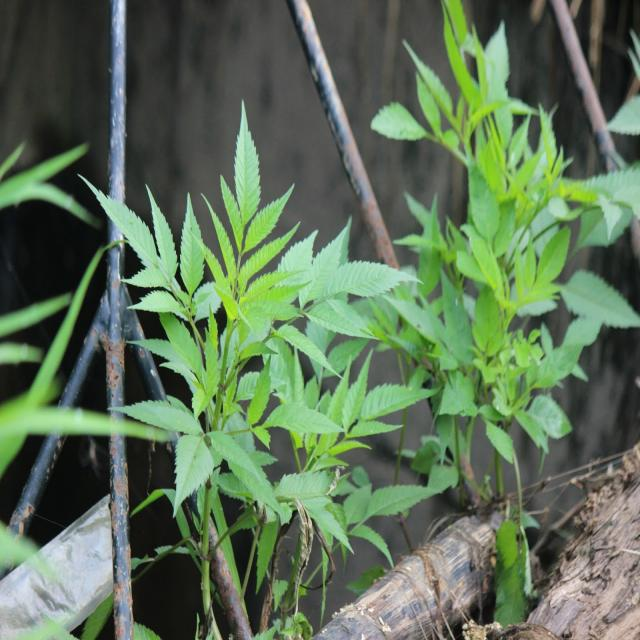Poisonous-Hemlock: (95, 182, 629, 486)
